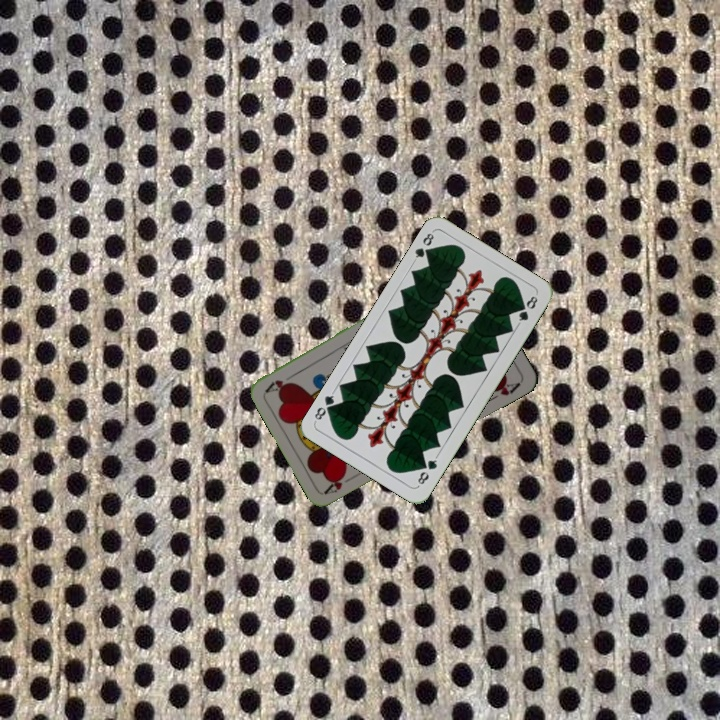G8: (412, 452, 440, 489), (409, 228, 436, 264)
HA: (321, 469, 359, 497)
